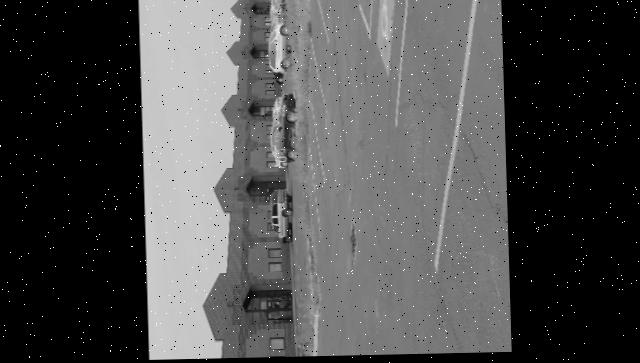drone: (272, 144, 286, 167)
